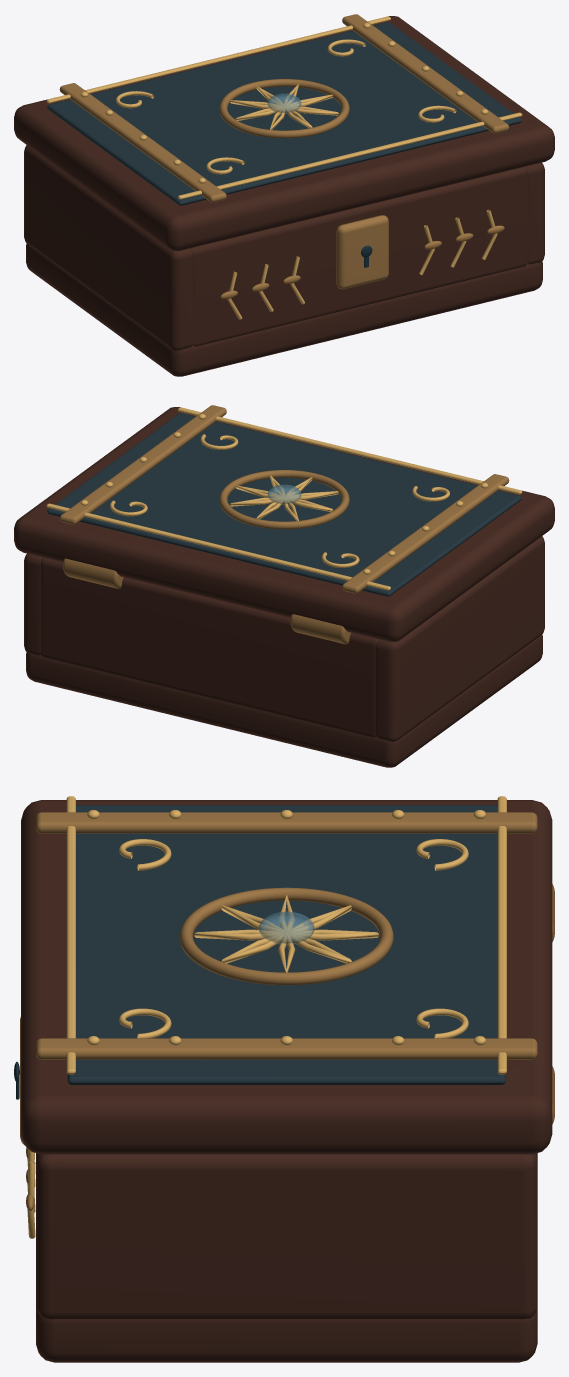
The model's file is archive-chest-v2.glb.
The picture shows the model from 3 angles, top to bottom: view 1: azimuth 30°, elevation 25°; view 2: azimuth 150°, elevation 25°; view 3: azimuth 270°, elevation 25°; orthographic projection. The views are drawn at different scales.
Visible parts, largest first — view 1: LidLeather, WalnutWall, ArchiveLid, WalnutSide, ArchiveBase, Escutcheon, LidStrap.001, LidStrap, LidMedallion, WalnutSide.001, LidGoldEdge.001, LidGoldEdge (+1 smaller); view 2: LidLeather, WalnutWall.001, ArchiveLid, WalnutSide, ArchiveBase, LidStrap.001, LidStrap, LidMedallion, WalnutSide.001, LidGoldEdge, LidGoldEdge.001, RolledHinge (+2 smaller); view 3: LidLeather, WalnutSide.001, ArchiveLid, ArchiveBase, LidStrap.001, LidStrap, LidMedallion, LidGoldEdge, LidGoldEdge.001, MedallionStone, CompassRay.006, CompassRay.002 (+4 smaller).
Boxes of the visible parts, x1=… form: LidLeather: x1=47, y1=22, x2=521, y2=205; WalnutWall: x1=191, y1=167, x2=527, y2=346; ArchiveLid: x1=14, y1=16, x2=554, y2=250; WalnutSide: x1=24, y1=145, x2=193, y2=350; ArchiveBase: x1=26, y1=244, x2=542, y2=376; Escutcheon: x1=336, y1=215, x2=388, y2=289; LidStrap.001: x1=342, y1=14, x2=509, y2=133; LidStrap: x1=59, y1=83, x2=226, y2=202; LidMedallion: x1=219, y1=79, x2=349, y2=138; WalnutSide.001: x1=527, y1=162, x2=544, y2=264; LidGoldEdge.001: x1=46, y1=16, x2=390, y2=103; LidGoldEdge: x1=178, y1=112, x2=522, y2=199; LidLeather: x1=47, y1=413, x2=521, y2=596; WalnutWall.001: x1=41, y1=558, x2=377, y2=737; ArchiveLid: x1=14, y1=407, x2=554, y2=641; WalnutSide: x1=375, y1=536, x2=544, y2=741; ArchiveBase: x1=26, y1=635, x2=542, y2=767; LidStrap.001: x1=59, y1=405, x2=226, y2=524; LidStrap: x1=342, y1=474, x2=509, y2=593; LidMedallion: x1=219, y1=470, x2=349, y2=529; WalnutSide.001: x1=24, y1=553, x2=41, y2=655; LidGoldEdge: x1=178, y1=407, x2=522, y2=494; LidGoldEdge.001: x1=46, y1=503, x2=390, y2=590; RolledHinge: x1=290, y1=614, x2=350, y2=644; LidLeather: x1=67, y1=805, x2=505, y2=1084; WalnutSide.001: x1=36, y1=1153, x2=537, y2=1319; ArchiveLid: x1=21, y1=800, x2=552, y2=1154; ArchiveBase: x1=36, y1=1306, x2=537, y2=1362; LidStrap.001: x1=36, y1=1038, x2=537, y2=1059; LidStrap: x1=36, y1=812, x2=537, y2=833; LidMedallion: x1=179, y1=887, x2=393, y2=985; LidGoldEdge: x1=66, y1=796, x2=75, y2=1074; LidGoldEdge.001: x1=497, y1=796, x2=506, y2=1074; MedallionStone: x1=259, y1=911, x2=314, y2=944; CompassRay.006: x1=194, y1=929, x2=286, y2=940; CompassRay.002: x1=288, y1=929, x2=378, y2=940.
Bounding box in the file's own units: 1.98 × 0.9 × 1.46.
